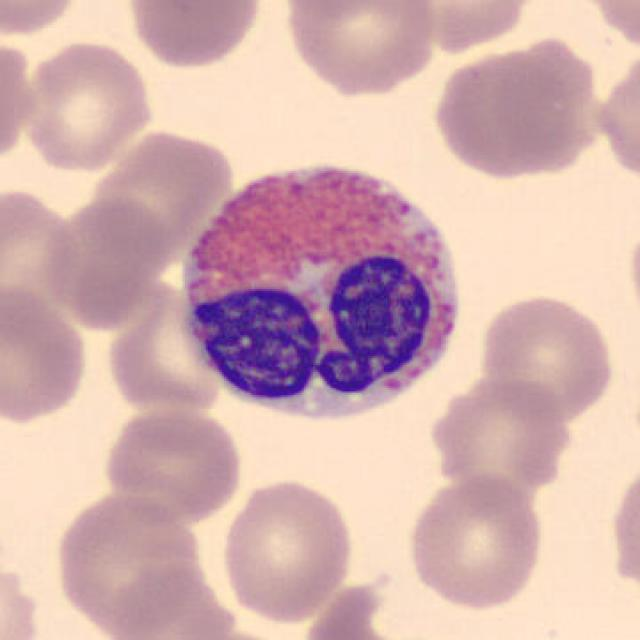Eosinophil: (170, 143, 474, 434)
RBC: (50, 488, 206, 636), (217, 474, 357, 626), (403, 471, 548, 614), (428, 44, 578, 180), (16, 37, 158, 175), (474, 289, 618, 423), (427, 375, 573, 507), (39, 190, 169, 330), (100, 404, 246, 527), (103, 275, 224, 418), (279, 0, 441, 99), (0, 276, 92, 428), (0, 184, 82, 330), (121, 0, 267, 72), (382, 0, 546, 55), (0, 34, 41, 170), (606, 453, 640, 607), (570, 0, 640, 56), (0, 0, 85, 40), (626, 212, 640, 338)
